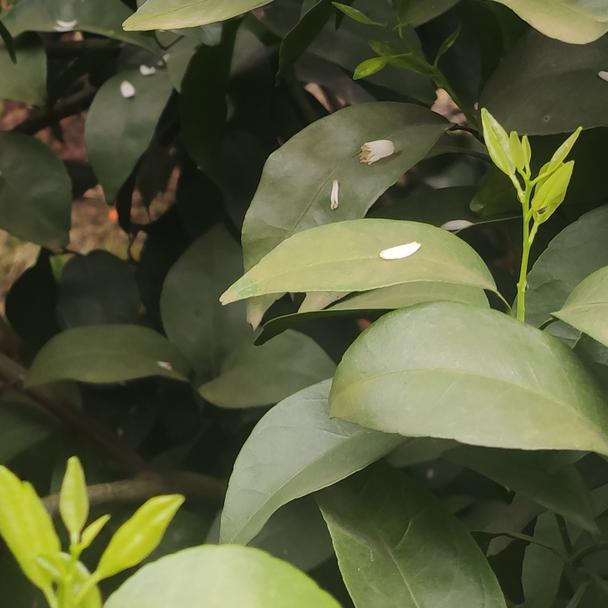shoot: (2, 460, 182, 608), (478, 126, 578, 246)
